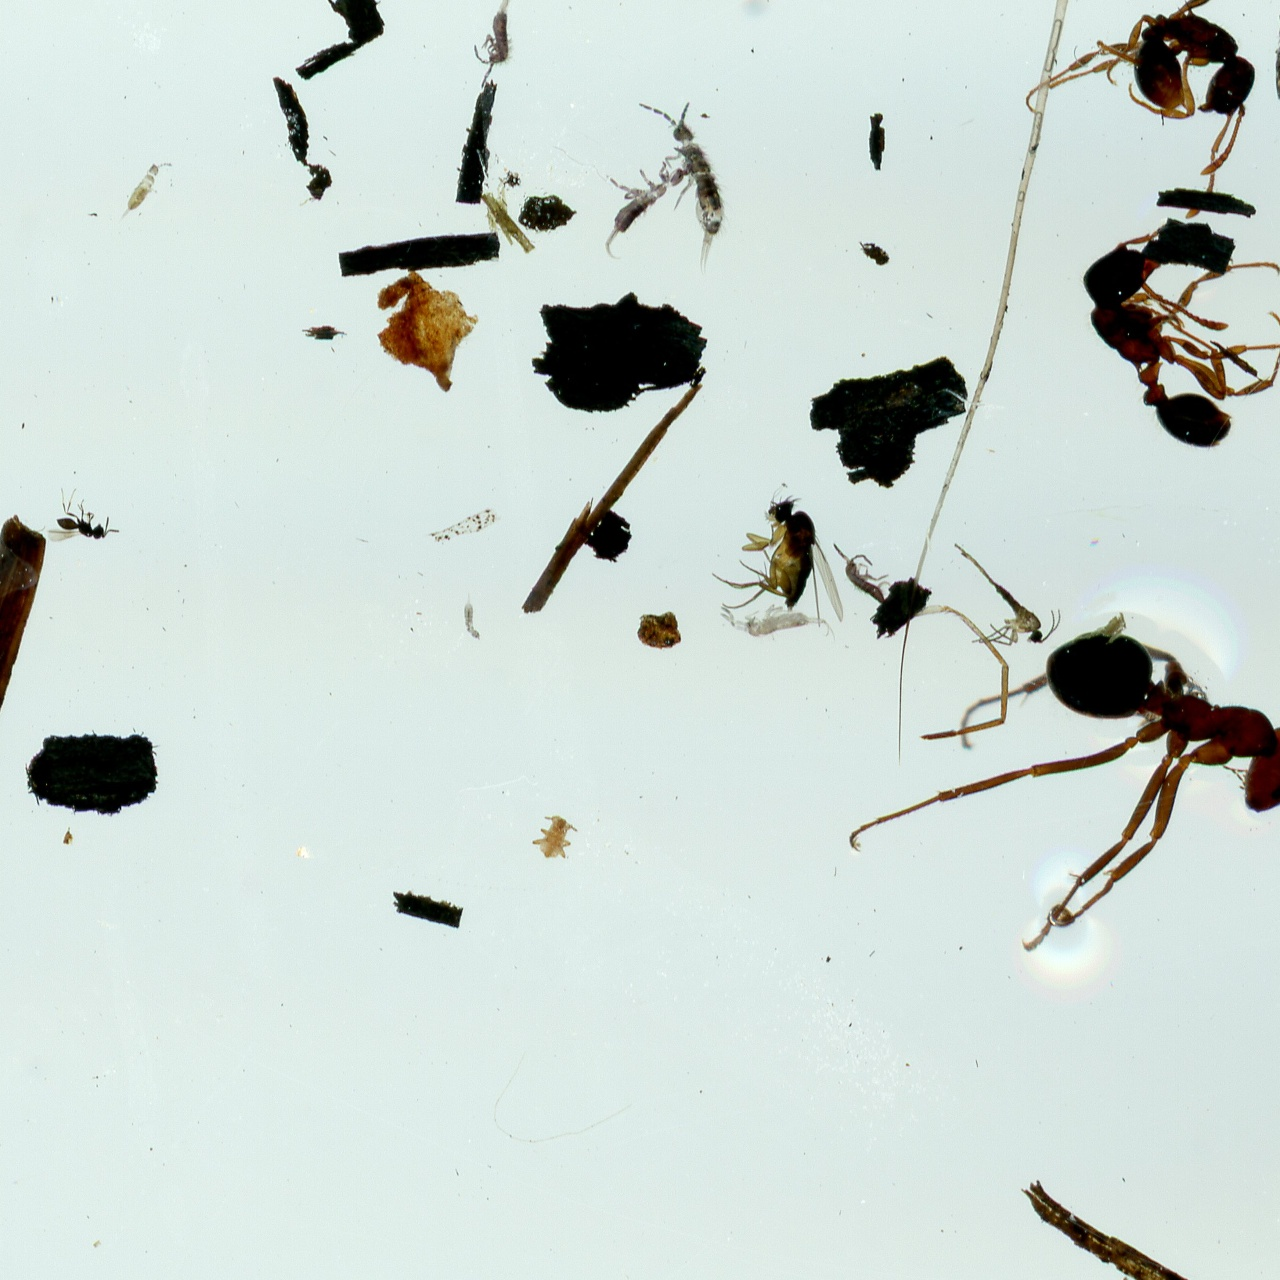arthropod: (846, 612, 1280, 960), (1077, 225, 1280, 452), (1024, 0, 1257, 195), (708, 478, 846, 631), (638, 83, 744, 278), (573, 139, 704, 264), (951, 538, 1062, 646), (821, 524, 907, 617), (719, 599, 840, 648), (113, 151, 176, 233), (472, 0, 524, 91), (40, 486, 121, 544), (533, 815, 579, 859), (461, 588, 484, 645), (1272, 12, 1280, 111)
